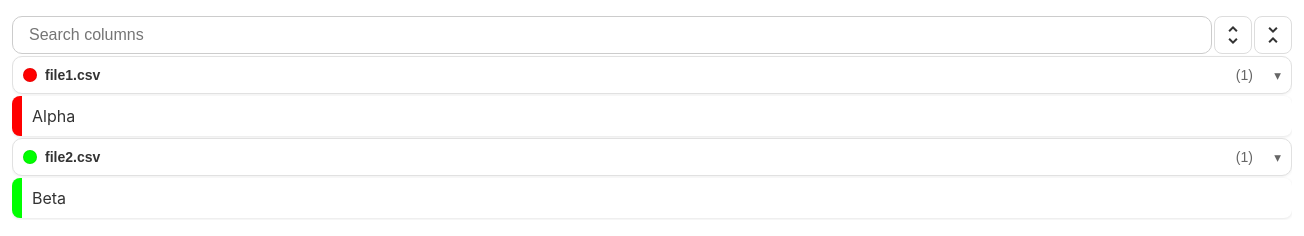
Test: <ColumnSearchList /> › collapses all groups when collapseAll is clicked
Check: the list item "Alpha" is shown, box top-left (12, 96), bottom-right (1292, 136)
Check: the list item "Beta" is shown, box top-left (12, 178), bottom-right (1292, 218)
Note: Collapse all
Click the button named "collapse all column groups" at [1273, 35], box top-left (1254, 16), bottom-right (1292, 54)
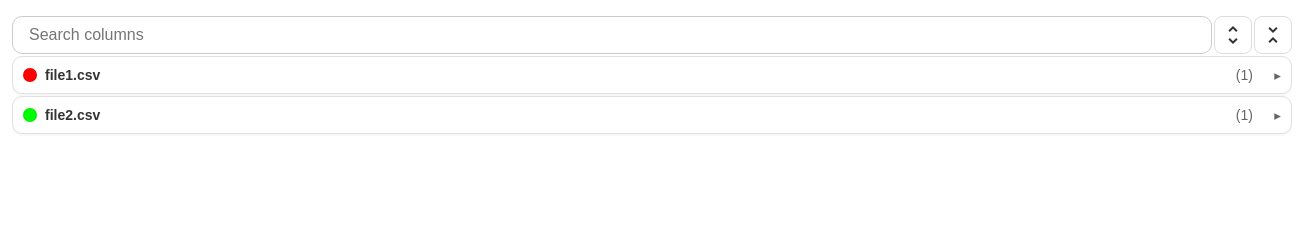
Check: the list item "Alpha" is gone
Check: the list item "Beta" is gone
